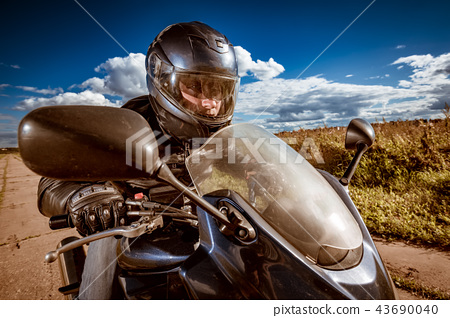helmet: (139, 19, 244, 140)
